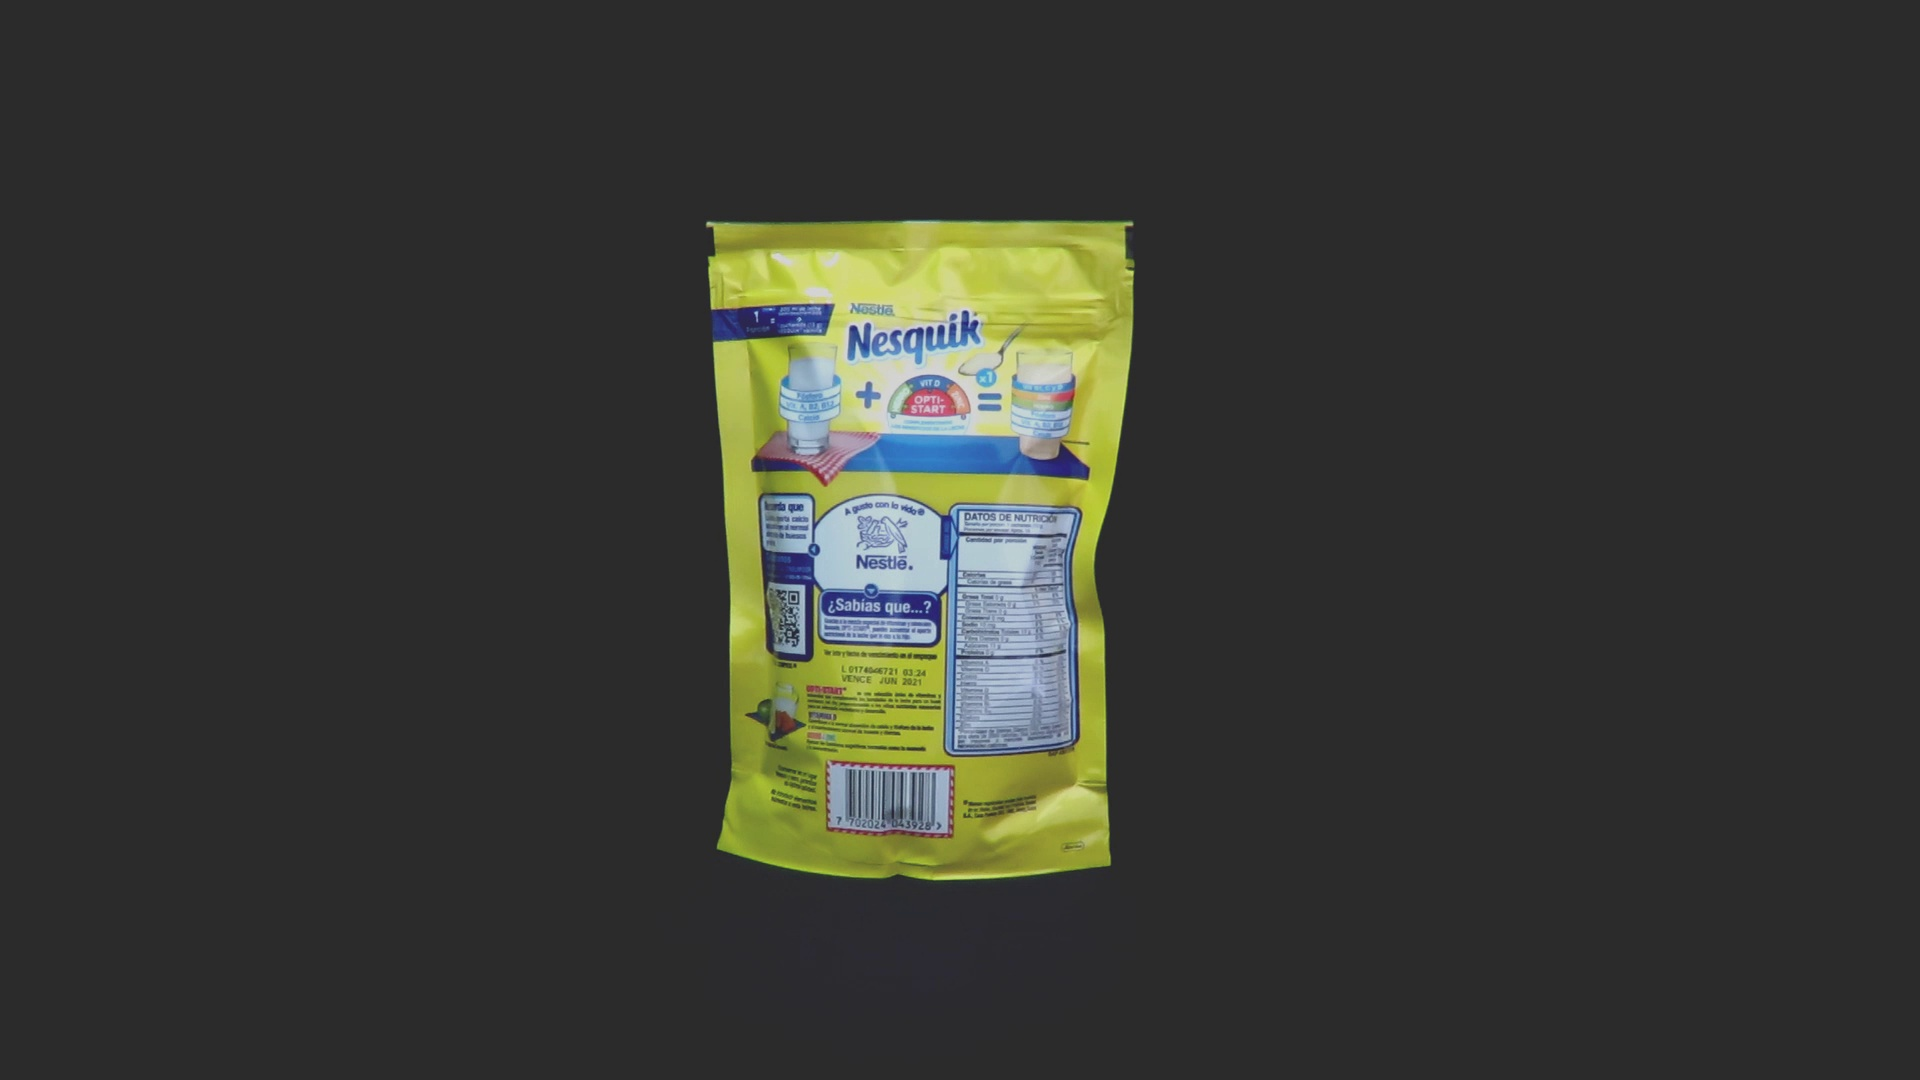COL0170306DYP20000: (702, 215, 1141, 887)
